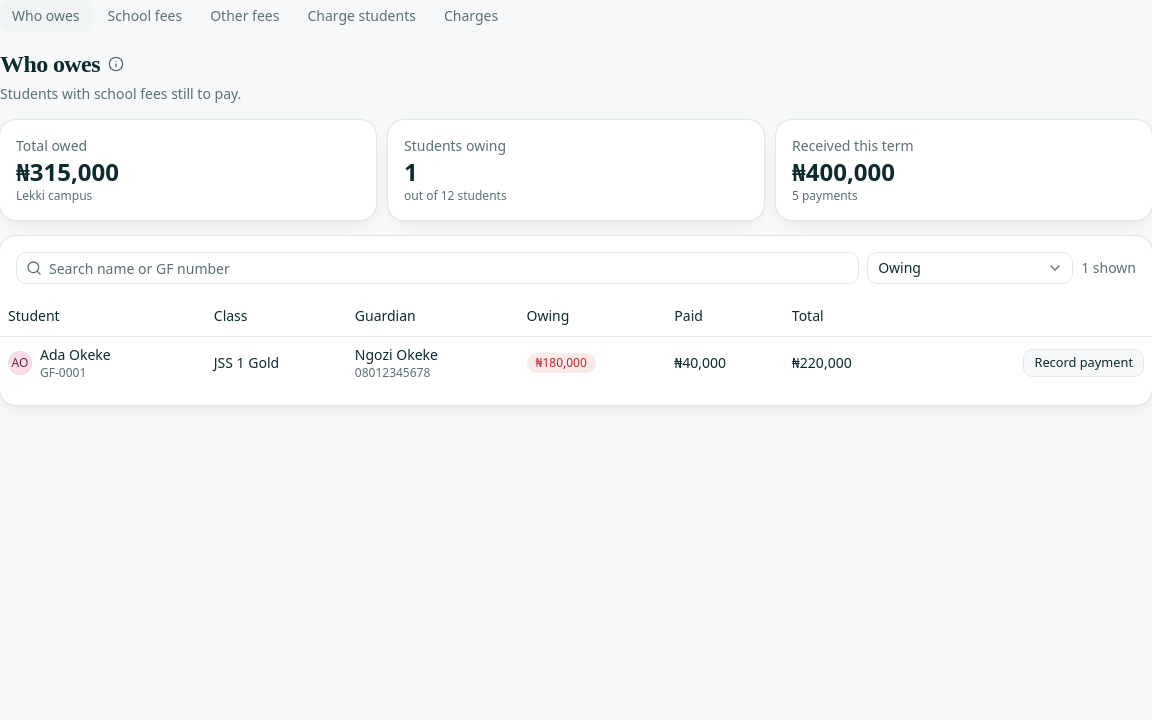
Test: WhoOwesPage › opens the sheet in place, prefilled for the paying guardian
The image size is (1152, 720).
Click the button with aria-label "Record payment for Ada Okeke": (1084, 362) [1023,348,1144,376]
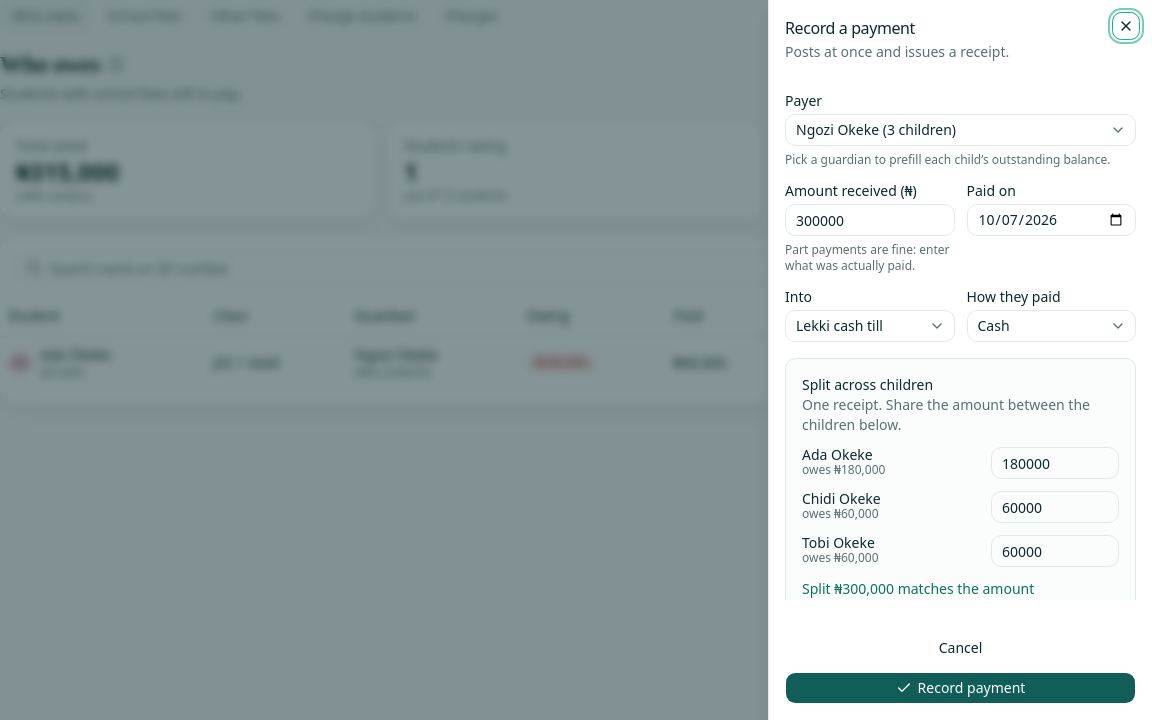
Expected: the heading "Record a payment" is shown, [785,17,915,39]
